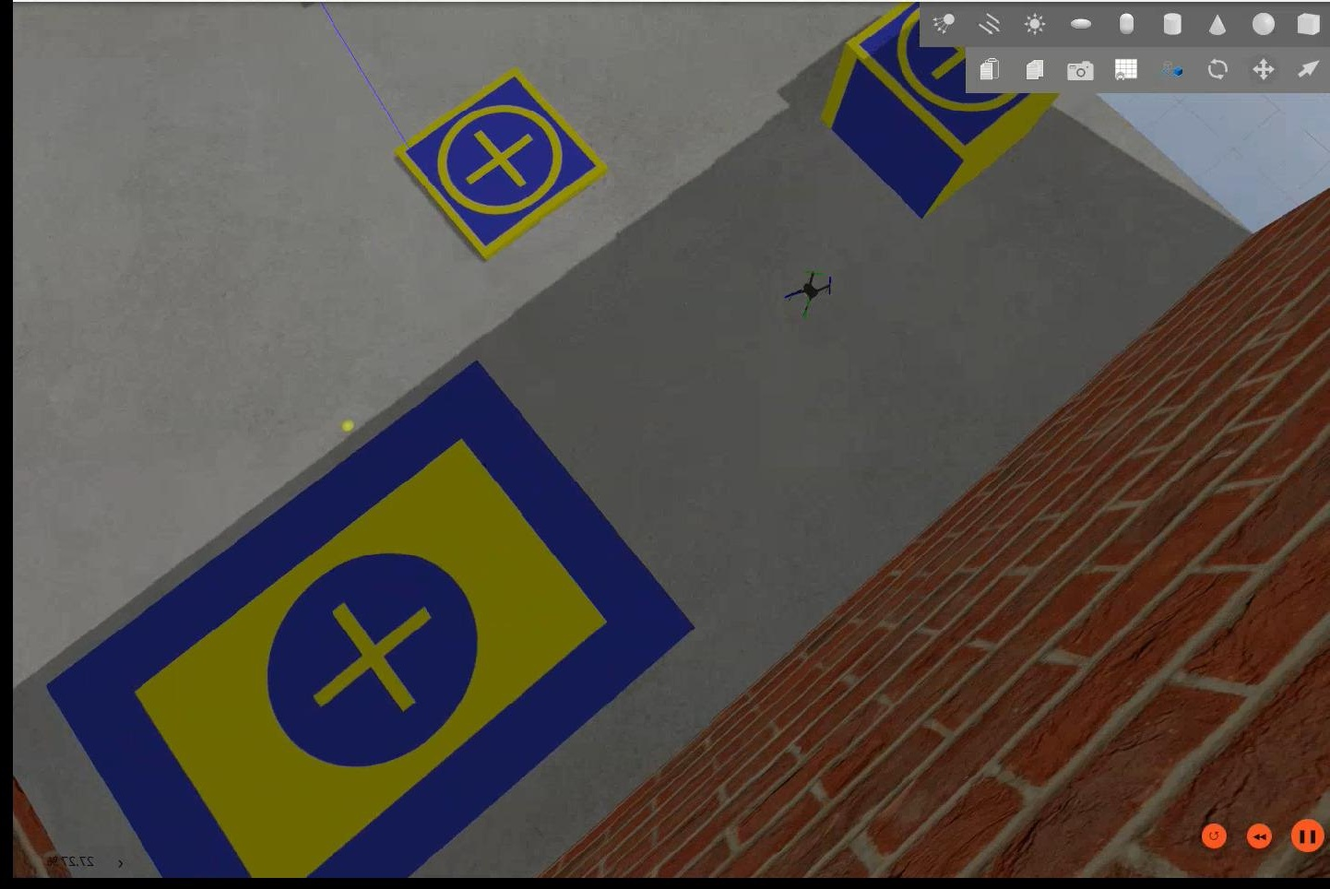large_base: (47, 358, 693, 878)
small_base: (394, 76, 604, 258), (841, 5, 1051, 156)
